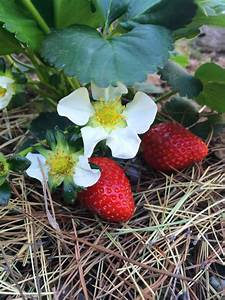Fresa: (74, 152, 141, 229), (136, 117, 212, 180)
